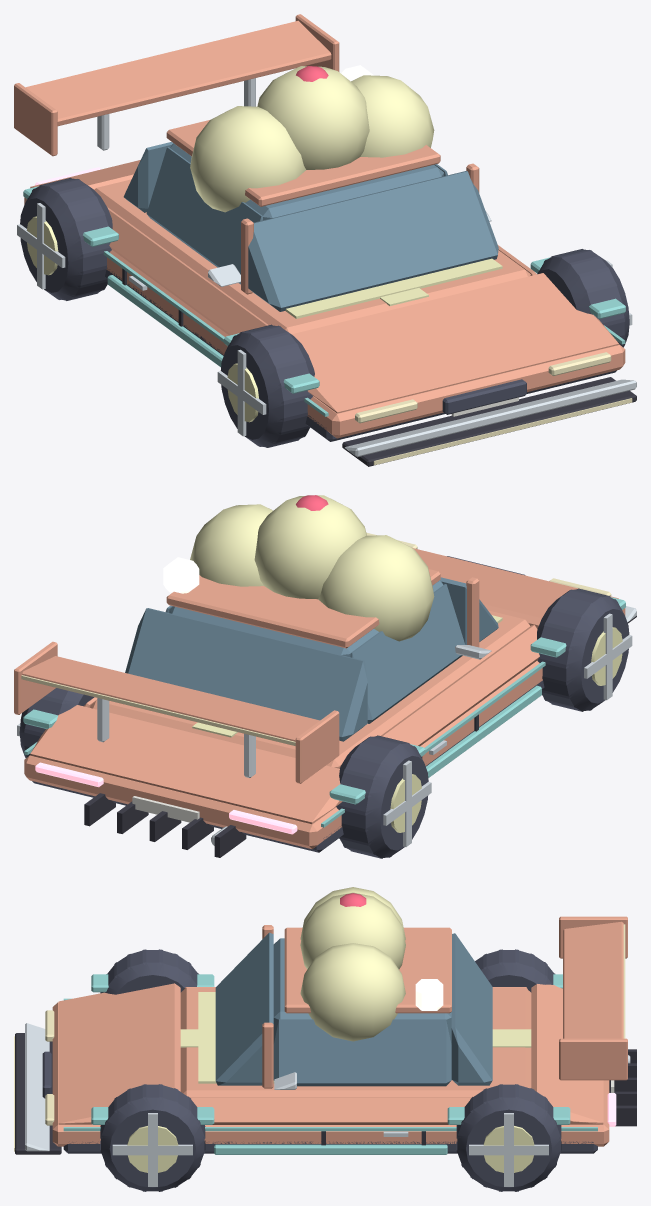
File: comet_cupcake.fbx
The picture shows the model from 3 angles, top to bottom: view 1: azimuth 30°, elevation 25°; view 2: azimuth 150°, elevation 25°; view 3: azimuth 270°, elevation 25°; orthographic projection. The views are drawn at different scales.
Visible parts, largest first — view 1: Body, Glass, Accent2, Wheel_FR, Wheel_RR, Accent, Accent3, Trim, Wheel_FL, Metal, Light, Trim2 (+1 smaller); view 2: Body, Glass, Accent2, Wheel_FR, Wheel_RR, Accent, Metal, Trim, Light, Metal2, Wheel_RL, Light2 (+4 smaller); view 3: Body, Glass, Accent2, Wheel_FL, Wheel_RL, Accent, Metal, Trim, Wheel_FR, Accent3, Metal2, Wheel_RR (+4 smaller).
Part boxes in pixels (left/top/right/bottom): Body: left=14, top=14, right=625, bottom=438; Glass: left=123, top=142, right=498, bottom=311; Accent2: left=190, top=66, right=502, bottom=318; Wheel_FR: left=220, top=324, right=314, bottom=447; Wheel_RR: left=20, top=178, right=112, bottom=300; Accent: left=23, top=186, right=625, bottom=416; Accent3: left=208, top=210, right=636, bottom=457; Trim: left=122, top=268, right=636, bottom=466; Wheel_FL: left=537, top=249, right=629, bottom=347; Metal: left=17, top=78, right=632, bottom=436; Light: left=355, top=352, right=632, bottom=465; Trim2: left=105, top=268, right=616, bottom=441; Body: left=14, top=548, right=625, bottom=849; Glass: left=125, top=577, right=498, bottom=741; Accent2: left=190, top=495, right=502, bottom=641; Wheel_FR: left=537, top=588, right=629, bottom=711; Wheel_RR: left=336, top=735, right=428, bottom=858; Accent: left=23, top=597, right=625, bottom=827; Metal: left=17, top=613, right=632, bottom=846; Trim: left=84, top=616, right=636, bottom=857; Light: left=21, top=532, right=611, bottom=745; Metal2: left=390, top=627, right=622, bottom=832; Wheel_RL: left=19, top=688, right=94, bottom=758; Light2: left=35, top=762, right=297, bottom=834; Body: left=52, top=916, right=627, bottom=1146; Glass: left=215, top=932, right=492, bottom=1086; Accent2: left=198, top=887, right=405, bottom=1083; Wheel_FL: left=100, top=1084, right=205, bottom=1191; Wheel_RL: left=456, top=1084, right=561, bottom=1191; Accent: left=63, top=974, right=597, bottom=1154; Metal: left=112, top=1055, right=630, bottom=1186; Trim: left=15, top=1033, right=636, bottom=1154; Wheel_FR: left=100, top=949, right=198, bottom=994; Accent3: left=25, top=1023, right=296, bottom=1151; Metal2: left=127, top=1126, right=534, bottom=1172; Wheel_RR: left=475, top=949, right=554, bottom=992.
Bounding box in the file's own units: 3.4 × 2.21 × 5.6.
